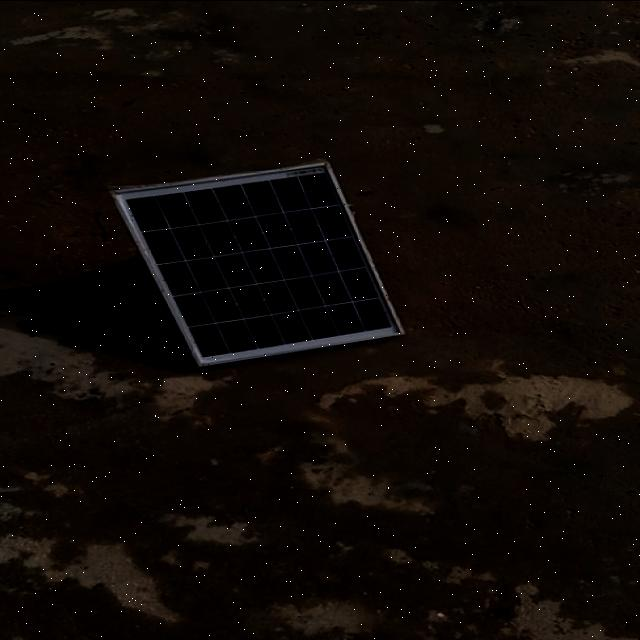Normal Solar Panel: (110, 162, 404, 366)
